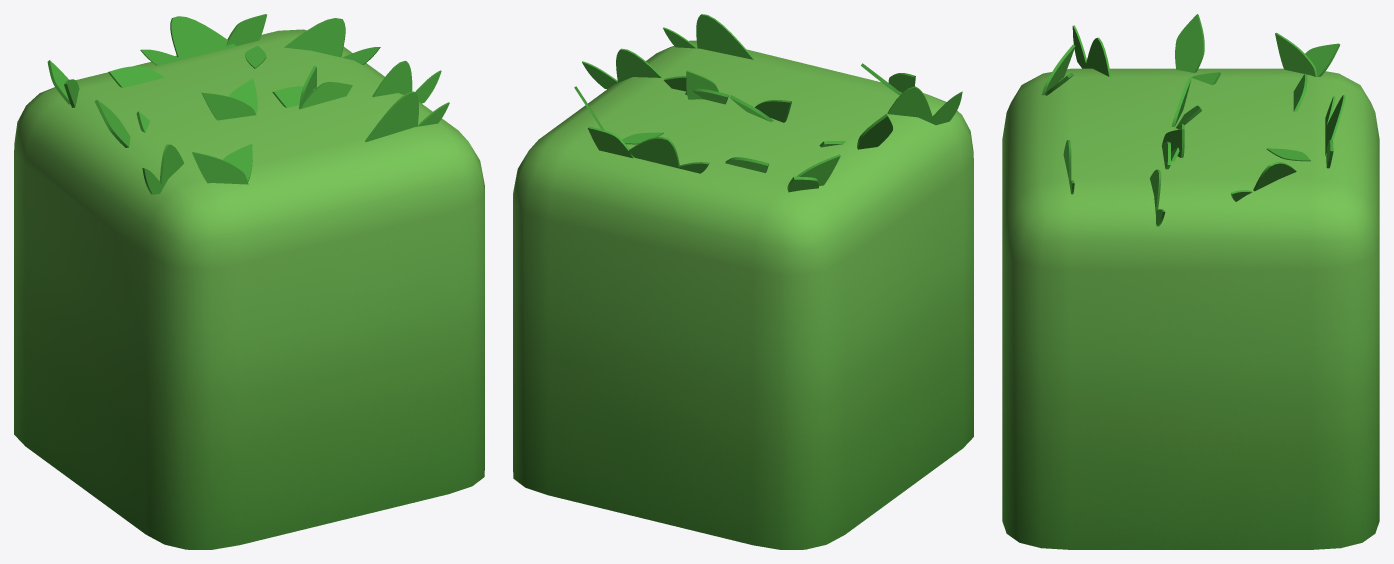
Rendered from bush.fbx.
The picture shows the model from 3 angles, left to right: view 1: azimuth 30°, elevation 25°; view 2: azimuth 150°, elevation 25°; view 3: azimuth 270°, elevation 25°; orthographic projection. The views are drawn at different scales.
Parts seen in each view (by area): view 1: Box152; view 2: Box152; view 3: Box152.
Part boxes in pixels (x1,y1,x2,y2): Box152: [14, 14, 484, 549]; Box152: [513, 14, 973, 549]; Box152: [1002, 14, 1379, 549].
Size of the model in its own units: 210 by 224 by 200.
